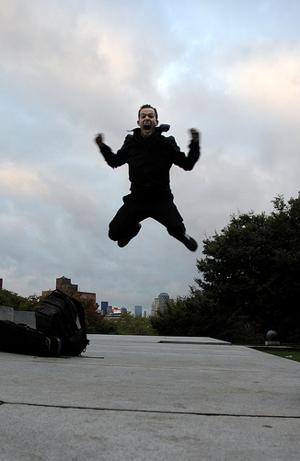person: (94, 99, 202, 253)
